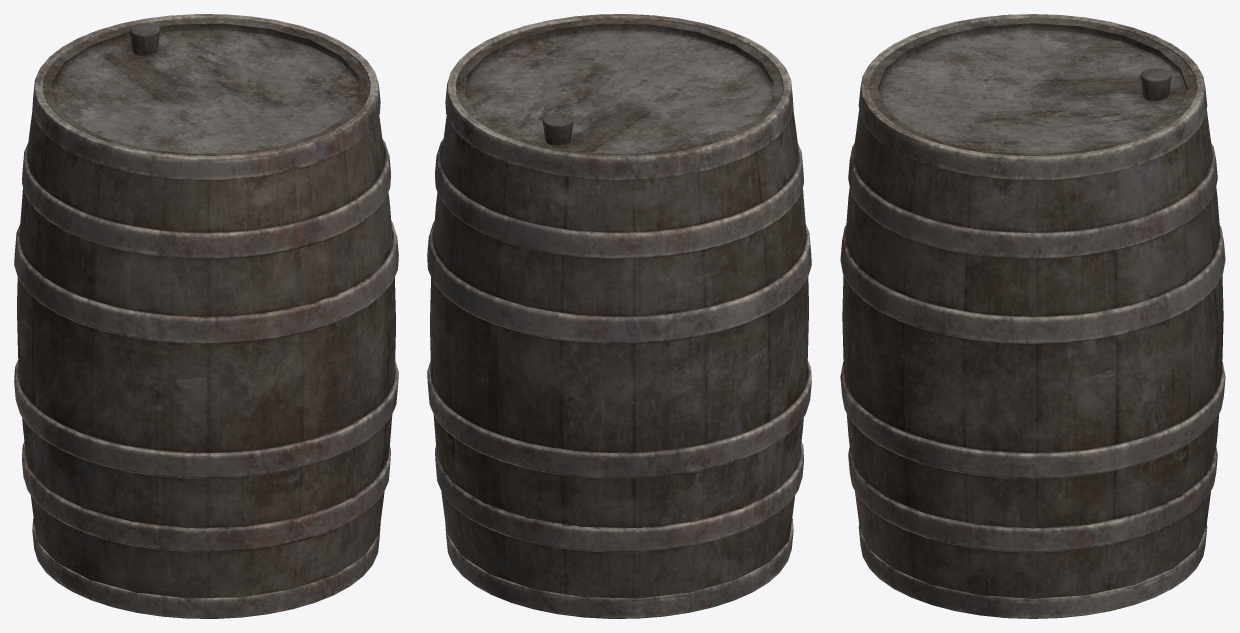
Rendered from old_barrel_free_download.glb.
The picture shows the model from 3 angles, left to right: view 1: azimuth 30°, elevation 25°; view 2: azimuth 150°, elevation 25°; view 3: azimuth 270°, elevation 25°; orthographic projection.
Visible parts, largest first — view 1: pCylinder1, pPipe1, polySurface1, polySurface3, polySurface2, polySurface4, pPipe7, pCylinder2; view 2: pCylinder1, pPipe1, polySurface1, polySurface3, polySurface2, polySurface4, pPipe7, pCylinder2; view 3: pCylinder1, pPipe1, polySurface1, polySurface3, polySurface2, polySurface4, pPipe7, pCylinder2.
Part boxes in pixels (x1,y1,x2,y2): pCylinder1: [17, 18, 395, 598]; pPipe1: [32, 14, 380, 180]; polySurface1: [14, 221, 398, 343]; polySurface3: [22, 139, 390, 258]; polySurface2: [14, 360, 398, 478]; polySurface4: [22, 442, 390, 552]; pPipe7: [32, 518, 380, 618]; pCylinder2: [129, 23, 160, 56]; pCylinder1: [430, 18, 808, 598]; pPipe1: [445, 14, 793, 180]; polySurface1: [427, 221, 811, 343]; polySurface3: [435, 139, 803, 258]; polySurface2: [427, 360, 811, 478]; polySurface4: [435, 442, 803, 552]; pPipe7: [445, 518, 793, 618]; pCylinder2: [542, 113, 573, 145]; pCylinder1: [842, 18, 1223, 598]; pPipe1: [858, 14, 1207, 180]; polySurface1: [840, 225, 1225, 343]; polySurface3: [848, 143, 1217, 259]; polySurface2: [840, 362, 1225, 478]; polySurface4: [848, 447, 1217, 552]; pPipe7: [858, 524, 1207, 618]; pCylinder2: [1140, 68, 1171, 101].
Bounding box in the file's own units: 1.48 × 2 × 1.48.
Materials: 1 (1 with a texture image).
